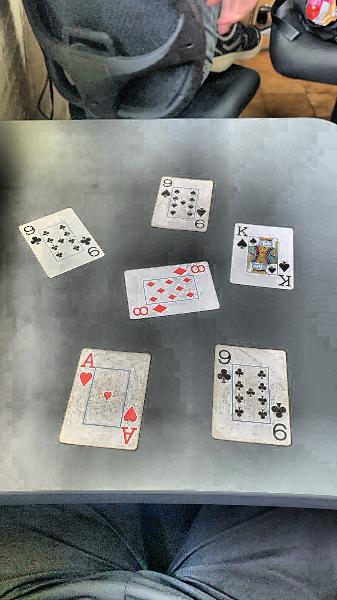8D: (132, 303, 169, 317), (172, 263, 208, 276)
9P: (158, 173, 175, 200), (193, 207, 209, 232)
9T: (77, 234, 104, 261), (271, 400, 288, 442), (18, 223, 45, 249), (216, 347, 233, 384)
AC: (121, 404, 140, 448), (78, 351, 96, 387)
KP: (277, 259, 295, 294), (235, 223, 251, 253)
